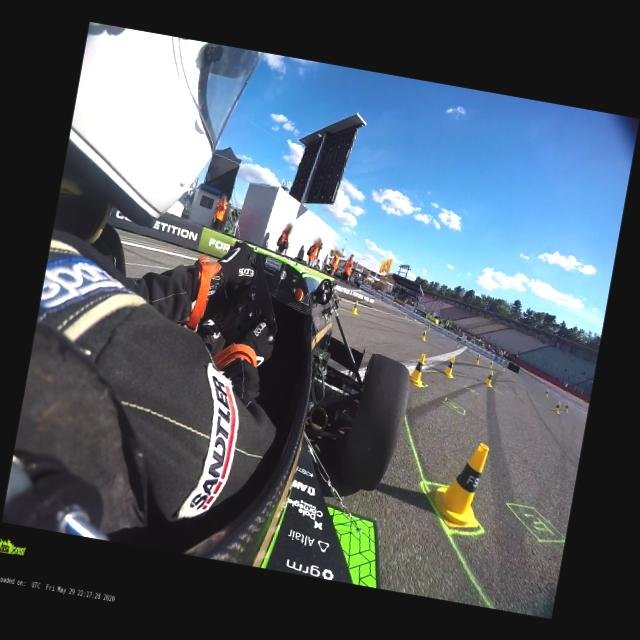yellow_cone: (426, 434, 492, 528), (406, 351, 428, 387), (442, 355, 457, 378), (484, 370, 494, 386), (351, 300, 358, 314), (552, 401, 560, 413), (420, 331, 427, 342), (561, 403, 569, 412), (542, 390, 548, 398), (475, 356, 479, 364), (488, 360, 492, 368), (403, 313, 408, 318), (456, 342, 459, 348), (414, 316, 417, 322), (427, 326, 430, 330)
